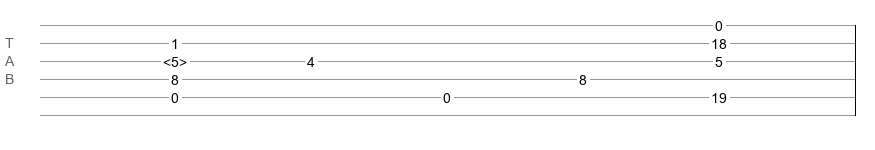0: (171, 90, 179, 100), (443, 90, 451, 100), (715, 18, 723, 28)
1: (171, 36, 179, 46)
18: (711, 36, 727, 46)
19: (711, 90, 727, 100)
4: (307, 54, 315, 64)
5: (715, 54, 723, 64)
8: (171, 72, 179, 82), (579, 72, 587, 82)
harmonic: (163, 54, 187, 64)
